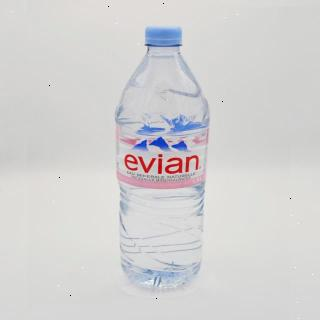Plastic-bottle: (113, 25, 217, 291)
